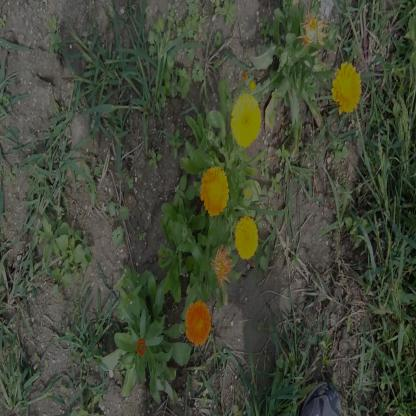marigold: (233, 95, 259, 147), (334, 63, 361, 113), (201, 166, 228, 214), (185, 301, 210, 345), (235, 216, 257, 258)
